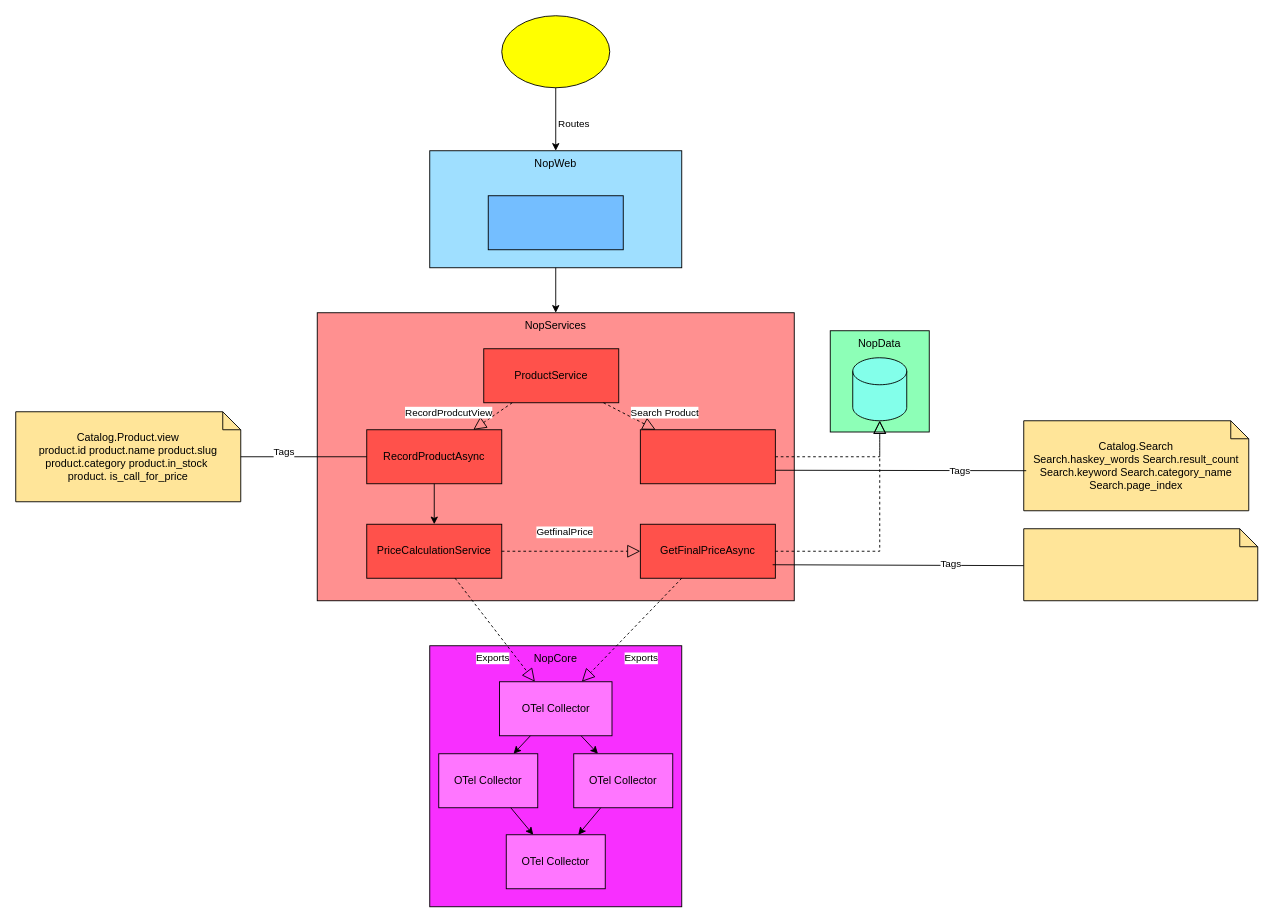
Some shapes in this 1274 by 923 pixel diagram are drawn without their labels. Each missing label, with the box of its shape:
Catalog.princing Product.id Product.name Product.has_discount: (1023, 528, 1258, 601)
CatalogController: (487, 195, 623, 250)
Custumer (wants to search and view a product): (501, 15, 610, 88)
MYSQL (:3307): (852, 357, 907, 421)
SearchProductAsync: (639, 429, 775, 484)
